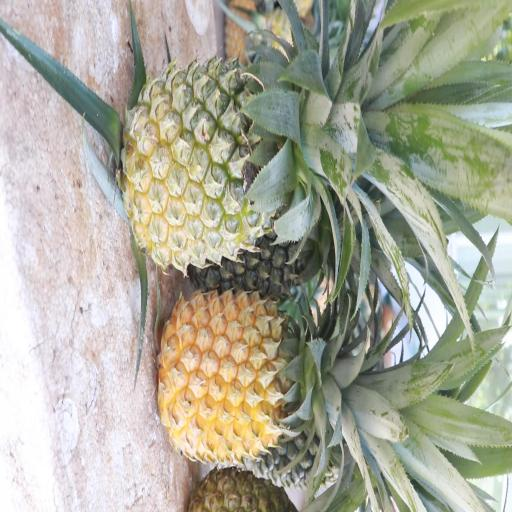------------------------------: (122, 62, 329, 267)
Pineapple - v8 v1: (161, 291, 346, 462)
